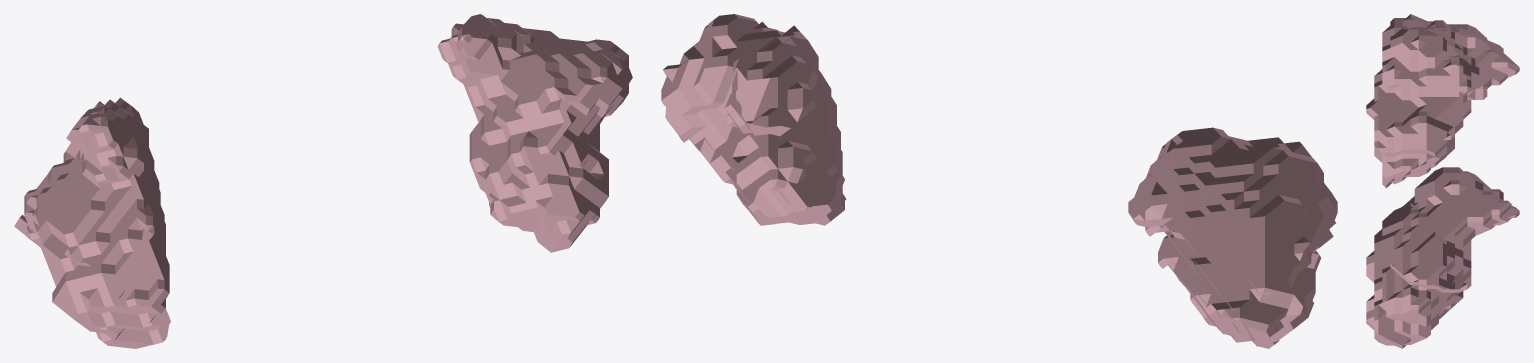
The model's file is region_0145_TGN__tertiary_gustatory_nucleus_.glb.
3 renders of one model, left to right at view 1: azimuth 30°, elevation 25°; view 2: azimuth 150°, elevation 25°; view 3: azimuth 270°, elevation 25°, orthographic. The views are drawn at different scales.
Parts seen in each view (by area): view 1: world; view 2: world; view 3: world.
Part boxes in pixels (x1,y1,x2,y2): world: [14, 14, 632, 348]; world: [661, 14, 1337, 348]; world: [1366, 14, 1519, 348].
Size of the model in its own units: 0.544 by 0.176 by 0.152.
